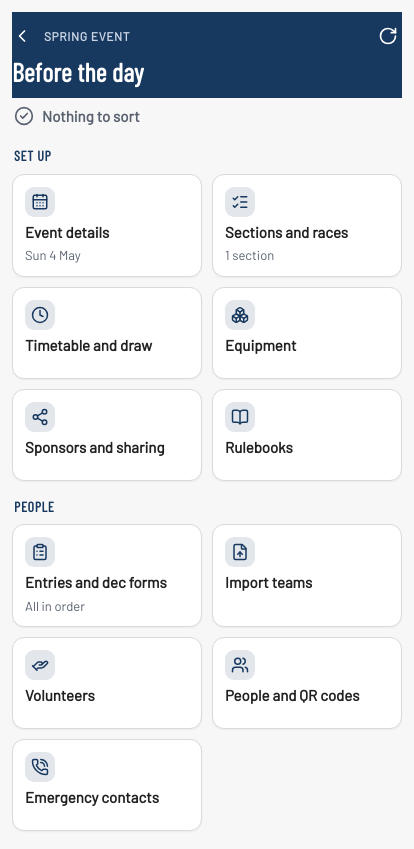
Test: EventToolsPage merged into OperationsPage › gives a competition admin with a Member account import and print, but not duplicating
Step 1. Click the link "Import teams" → click(307, 576), box [212,524,402,627]
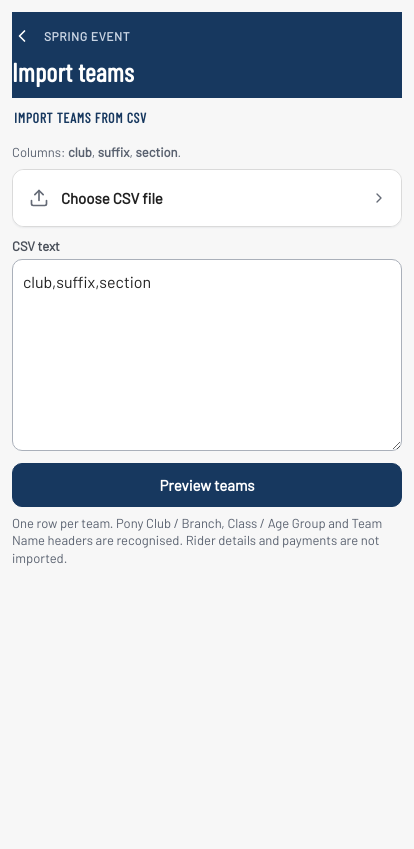
Now the text box labelled "CSV text" is shown, box [12,259,402,451]
